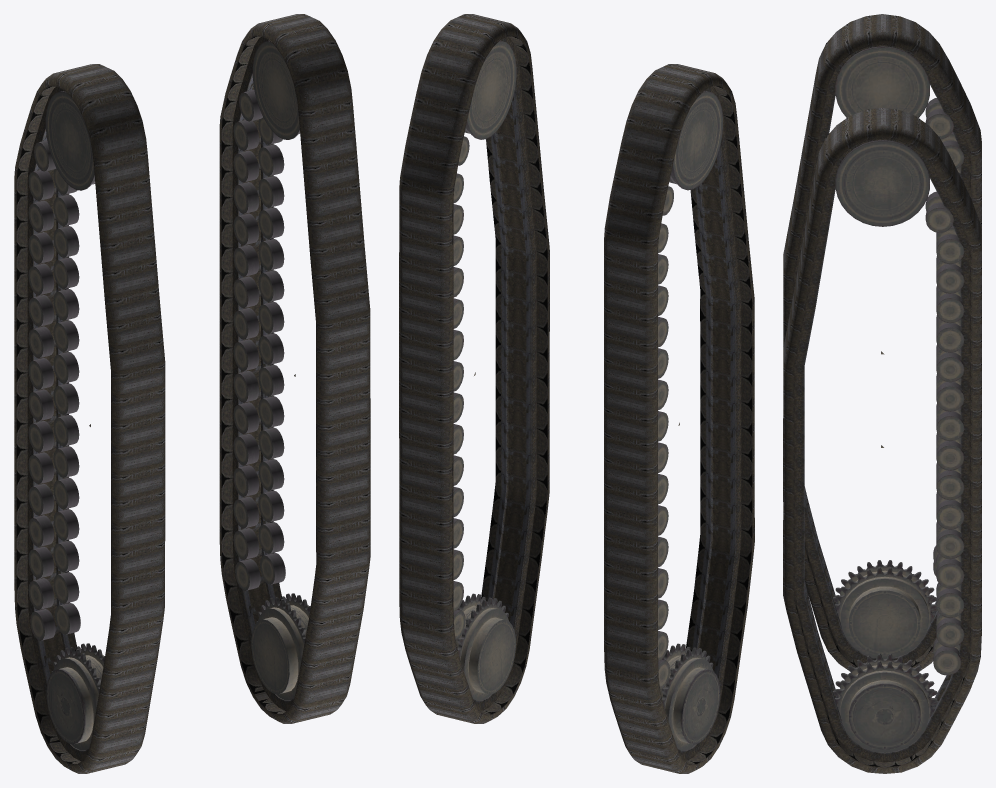
File: Chassis.glb
The picture shows the model from 3 angles, left to right: view 1: azimuth 30°, elevation 25°; view 2: azimuth 150°, elevation 25°; view 3: azimuth 270°, elevation 25°; orthographic projection. The views are drawn at different scales.
Parts seen in each view (by area): view 1: set_0_group_0, set_1_group_0, set_2_group_0, set_3_group_0; view 2: set_0_group_0, set_1_group_0, set_2_group_0, set_3_group_0; view 3: set_0_group_0, set_3_group_0, set_1_group_0, set_2_group_0.
Part boxes in pixels (x1=…): set_0_group_0: x1=219, y1=14, x2=370, y2=723; set_1_group_0: x1=14, y1=64, x2=165, y2=773; set_2_group_0: x1=28, y1=91, x2=104, y2=750; set_3_group_0: x1=233, y1=40, x2=310, y2=700; set_0_group_0: x1=399, y1=14, x2=549, y2=723; set_1_group_0: x1=604, y1=64, x2=754, y2=773; set_2_group_0: x1=658, y1=91, x2=722, y2=750; set_3_group_0: x1=453, y1=40, x2=516, y2=700; set_0_group_0: x1=783, y1=107, x2=981, y2=773; set_3_group_0: x1=832, y1=140, x2=964, y2=752; set_1_group_0: x1=783, y1=14, x2=981, y2=671; set_2_group_0: x1=833, y1=46, x2=964, y2=658.
Size of the model in its own units: 2.48 by 6.35 by 1.76.
4 materials, 4 textured.
